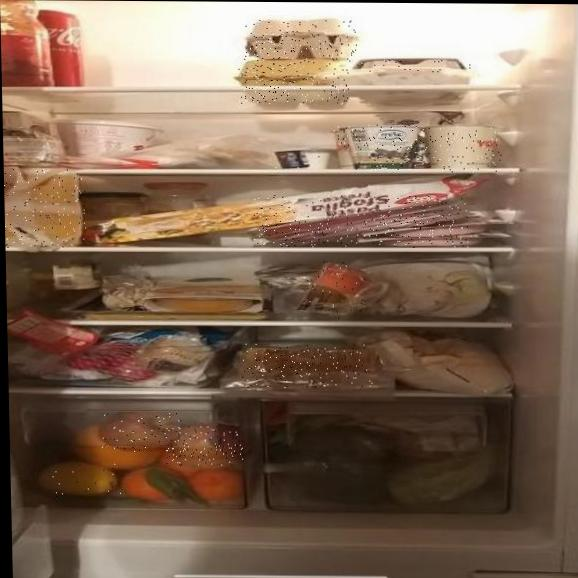apple: (102, 411, 183, 452), (166, 427, 245, 467)
cheese: (4, 169, 86, 248), (242, 344, 373, 389), (303, 260, 369, 321)
eggs: (238, 57, 351, 104), (243, 20, 357, 58), (357, 60, 472, 73)
ham: (253, 195, 471, 248)
lemon: (36, 463, 122, 496)
yoghurt: (333, 124, 422, 171), (421, 126, 502, 173), (275, 147, 356, 172)
